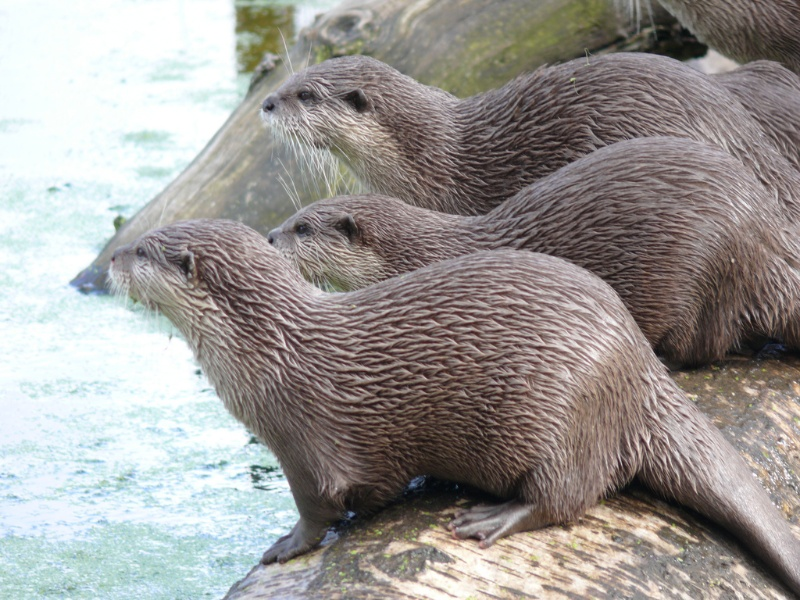minkish: (99, 223, 800, 579), (265, 131, 800, 372), (257, 54, 800, 240)
